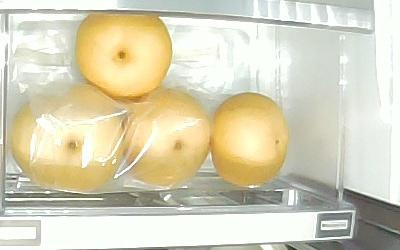pear: (76, 11, 173, 99), (209, 92, 289, 185)
pear_vinyl: (9, 102, 125, 191), (122, 89, 212, 185)
